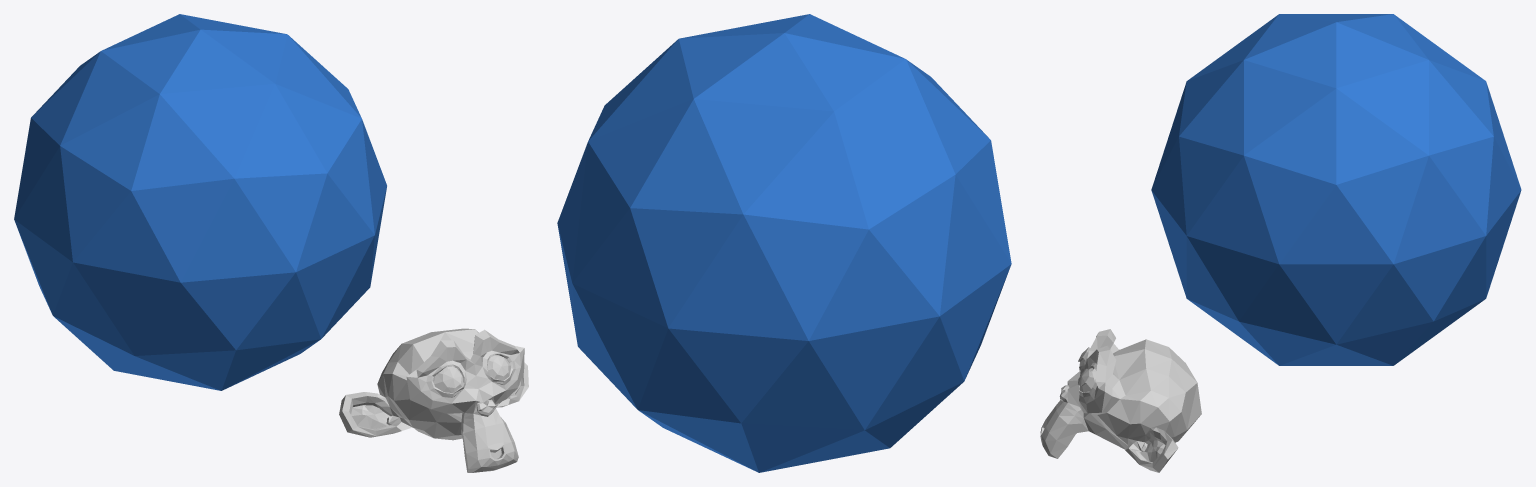
The picture shows the model from 3 angles, left to right: view 1: azimuth 30°, elevation 25°; view 2: azimuth 150°, elevation 25°; view 3: azimuth 270°, elevation 25°; orthographic projection. The views are drawn at different scales.
Visible parts, largest first — view 1: Icosphere, Suzanne; view 2: Icosphere; view 3: Icosphere, Suzanne.
Part boxes in pixels (x1=…): Icosphere: x1=14, y1=14, x2=386, y2=390; Suzanne: x1=339, y1=328, x2=528, y2=472; Icosphere: x1=557, y1=14, x2=1011, y2=472; Icosphere: x1=1151, y1=14, x2=1521, y2=365; Suzanne: x1=1040, y1=329, x2=1201, y2=472.
Bounding box in the file's own units: 2.4 × 2.6 × 2.14.
